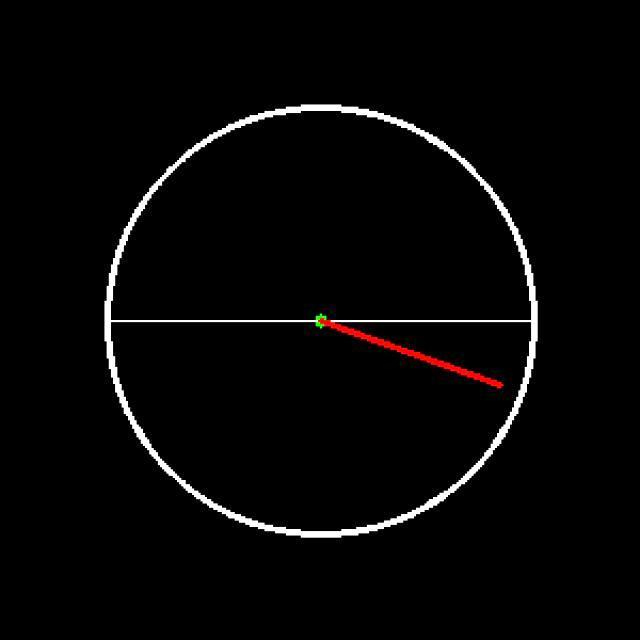Needle_Tip: (469, 360, 511, 406)
Needle_base: (284, 298, 357, 360)
